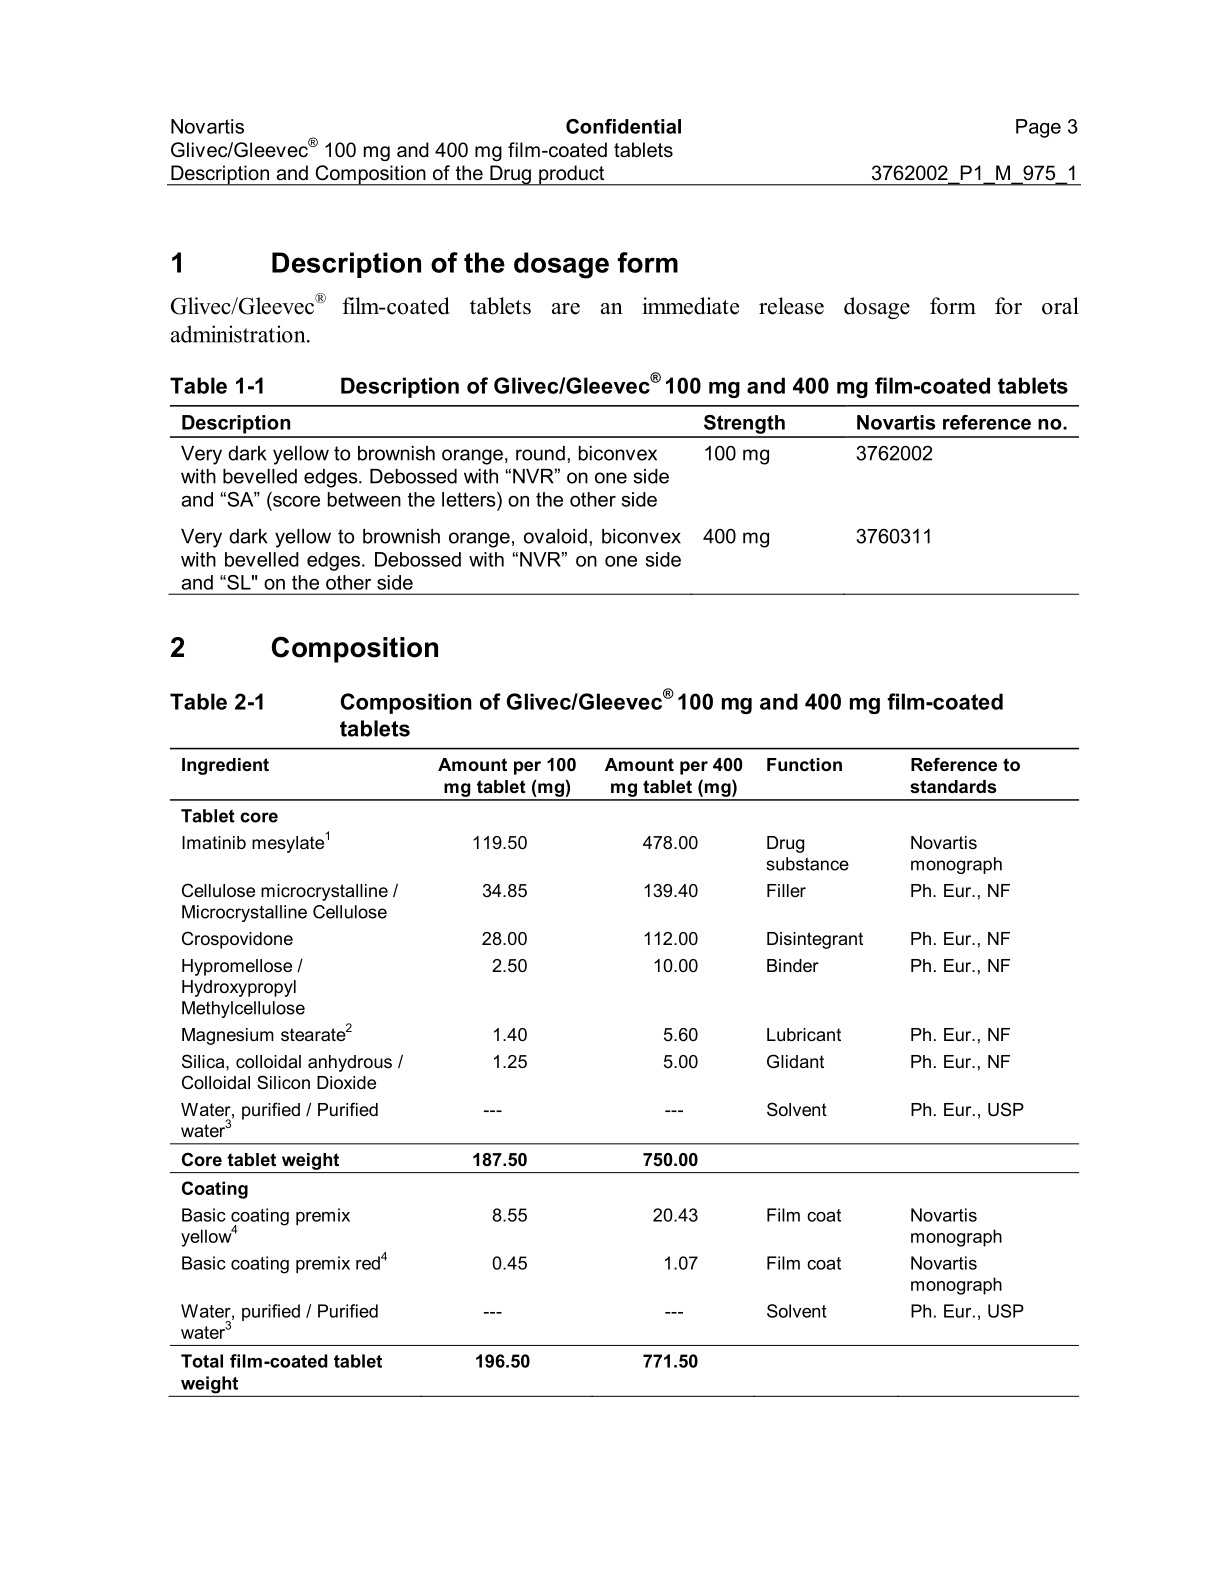partial_lined: (168, 746, 1081, 1398), (168, 402, 1081, 597)
